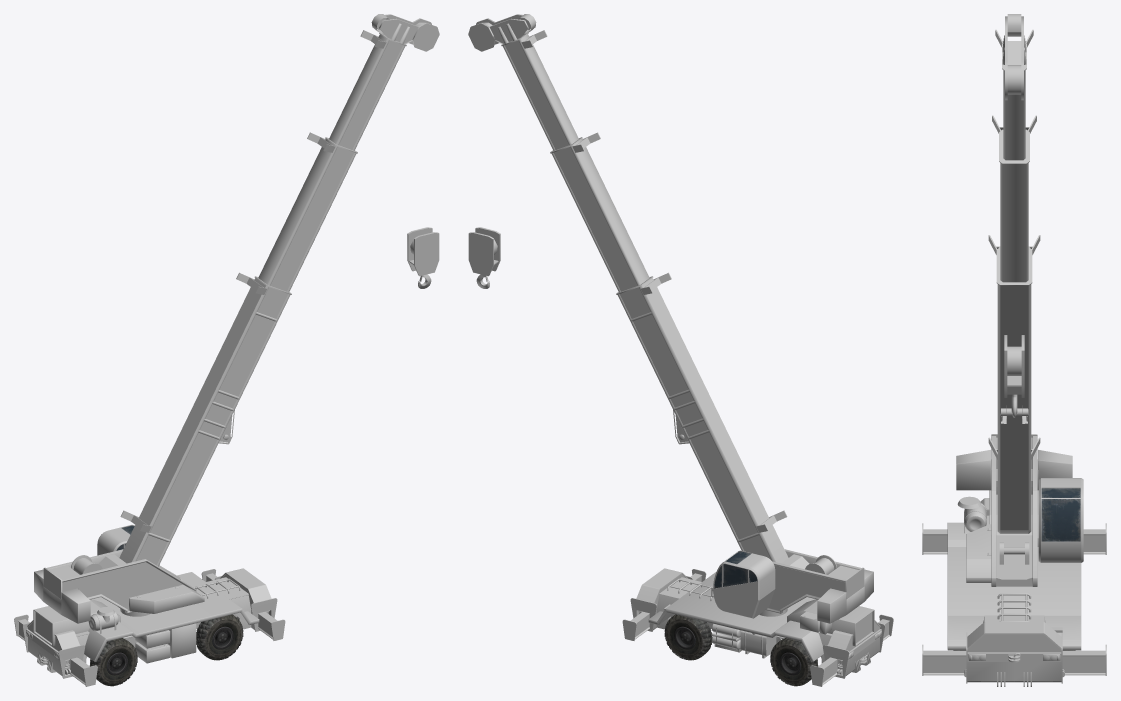
Rendered from Crane_Updated.fbx.
3 views of the same model, side by side, from view 1: azimuth 30°, elevation 25°; view 2: azimuth 150°, elevation 25°; view 3: azimuth 270°, elevation 25° (orthographic). The views are drawn at different scales.
Visible parts, largest first — view 1: TomGroup_15, TomGroup_0, TomGroup_13, TomGroup_16, TomGroup_17, TomGroup_14, TomGroup_22, TomGroup_25, TomGroup_18; view 2: TomGroup_15, TomGroup_0, TomGroup_13, TomGroup_16, TomGroup_14, TomGroup_17, TomGroup_23, TomGroup_24, TomGroup_18, TomGroup_21; view 3: TomGroup_0, TomGroup_14, TomGroup_13, TomGroup_15, TomGroup_16, TomGroup_17, TomGroup_21, TomGroup_18.
Boxes of the visible parts, <box> form: TomGroup_15: <box>119,272,291,566</box>; TomGroup_0: <box>14,568,285,686</box>; TomGroup_13: <box>34,524,204,623</box>; TomGroup_16: <box>258,132,357,292</box>; TomGroup_17: <box>329,14,439,150</box>; TomGroup_14: <box>14,569,283,686</box>; TomGroup_22: <box>196,614,243,660</box>; TomGroup_25: <box>89,638,137,686</box>; TomGroup_18: <box>407,227,439,281</box>; TomGroup_15: <box>616,272,788,563</box>; TomGroup_0: <box>622,568,893,686</box>; TomGroup_13: <box>711,549,873,623</box>; TomGroup_16: <box>550,132,649,292</box>; TomGroup_14: <box>624,569,893,686</box>; TomGroup_17: <box>468,14,578,150</box>; TomGroup_23: <box>664,614,712,660</box>; TomGroup_24: <box>770,638,818,686</box>; TomGroup_18: <box>468,227,500,281</box>; TomGroup_21: <box>714,551,757,588</box>; TomGroup_0: <box>923,490,1105,686</box>; TomGroup_14: <box>922,522,1106,683</box>; TomGroup_13: <box>956,435,1083,586</box>; TomGroup_15: <box>988,235,1040,533</box>; TomGroup_16: <box>992,115,1036,282</box>; TomGroup_17: <box>995,14,1033,160</box>; TomGroup_21: <box>1041,488,1080,541</box>; TomGroup_18: <box>1004,335,1024,397</box>.
Bounding box in the file's own units: 1835 × 2589 × 560.
